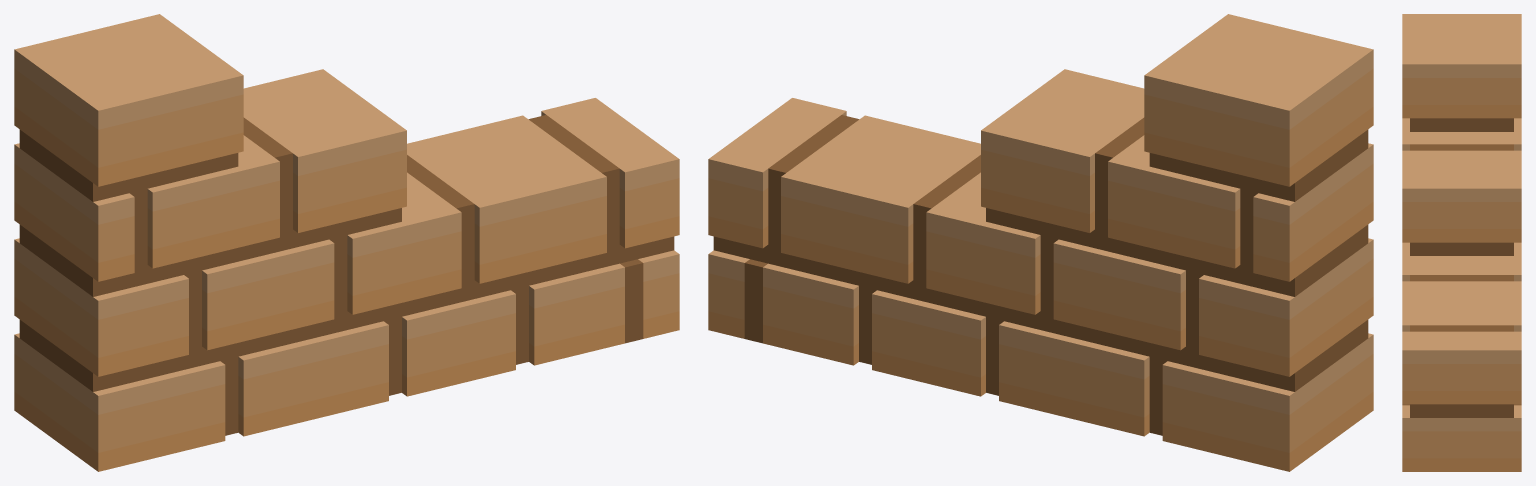
Rendered from DesertBrickWall_4Tall_2Broken.fbx.
3 views of the same model, side by side, from view 1: azimuth 30°, elevation 25°; view 2: azimuth 150°, elevation 25°; view 3: azimuth 270°, elevation 25° (orthographic). The views are drawn at different scales.
Parts seen in each view (by area): view 1: generated; view 2: generated; view 3: generated.
Boxes of the visible parts, box(x1,y1,x2,y2) form: generated: box(14, 14, 679, 471); generated: box(708, 14, 1373, 471); generated: box(1402, 14, 1521, 471).
Size of the model in its own units: 320 by 190 by 80.
